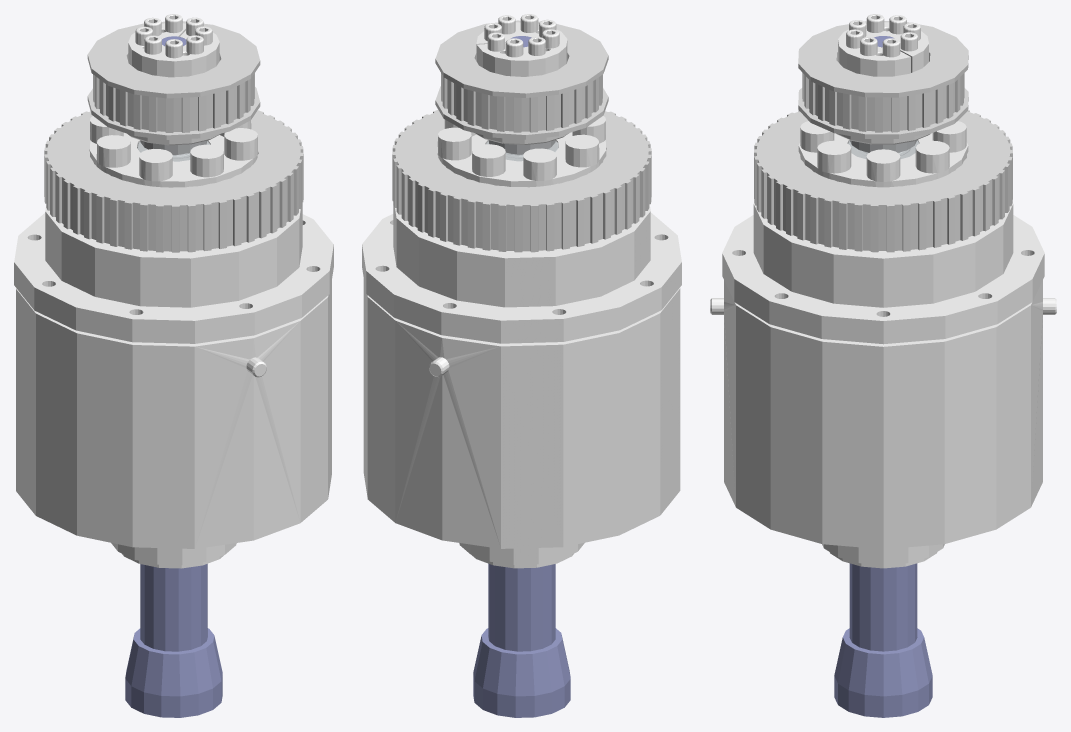
3 views of the same model, side by side, from view 1: azimuth 30°, elevation 25°; view 2: azimuth 150°, elevation 25°; view 3: azimuth 270°, elevation 25° (orthographic).
Visible parts, largest first — view 1: 4172022B_Contre_couvercle_de_cage, 10167082_Cage_a_roulements_d''agitateur, 4464033_Poulie_d''agitateur, 4464063_Poulie_entrainement_de_vis, 64653128_bage_d''assemblage_TLK_139_28-50, 4464152A_Bague_de_maintien, 4464042B_Arbre_commande_de_vis_DEMONTAGE_RAPIDE, 64653008_Bague_d''assemblage_ø8, 4464012C_Cage_a_roulements_de_vis_BLOCAGE_ECROU; view 2: 4172022B_Contre_couvercle_de_cage, 10167082_Cage_a_roulements_d''agitateur, 4464033_Poulie_d''agitateur, 4464063_Poulie_entrainement_de_vis, 64653128_bage_d''assemblage_TLK_139_28-50, 4464152A_Bague_de_maintien, 4464042B_Arbre_commande_de_vis_DEMONTAGE_RAPIDE, 64653008_Bague_d''assemblage_ø8, 4464012C_Cage_a_roulements_de_vis_BLOCAGE_ECROU; view 3: 4172022B_Contre_couvercle_de_cage, 10167082_Cage_a_roulements_d''agitateur, 4464033_Poulie_d''agitateur, 4464063_Poulie_entrainement_de_vis, 64653128_bage_d''assemblage_TLK_139_28-50, 4464152A_Bague_de_maintien, 4464042B_Arbre_commande_de_vis_DEMONTAGE_RAPIDE, 64653008_Bague_d''assemblage_ø8, 4464012C_Cage_a_roulements_de_vis_BLOCAGE_ECROU.
Part boxes in pixels (box(x1,y1,x2,y2)): 4172022B_Contre_couvercle_de_cage: box(16, 280, 331, 548); 10167082_Cage_a_roulements_d''agitateur: box(14, 202, 333, 343); 4464033_Poulie_d''agitateur: box(44, 110, 303, 252); 4464063_Poulie_entrainement_de_vis: box(87, 21, 260, 145); 64653128_bage_d''assemblage_TLK_139_28-50: box(90, 116, 257, 187); 4464152A_Bague_de_maintien: box(125, 628, 222, 717); 4464042B_Arbre_commande_de_vis_DEMONTAGE_RAPIDE: box(140, 36, 207, 651); 64653008_Bague_d''assemblage_ø8: box(128, 14, 219, 77); 4464012C_Cage_a_roulements_de_vis_BLOCAGE_ECROU: box(111, 137, 236, 568); 4172022B_Contre_couvercle_de_cage: box(363, 279, 680, 548); 10167082_Cage_a_roulements_d''agitateur: box(362, 204, 681, 343); 4464033_Poulie_d''agitateur: box(392, 110, 651, 252); 4464063_Poulie_entrainement_de_vis: box(435, 20, 608, 144); 64653128_bage_d''assemblage_TLK_139_28-50: box(437, 116, 606, 187); 4464152A_Bague_de_maintien: box(473, 628, 570, 717); 4464042B_Arbre_commande_de_vis_DEMONTAGE_RAPIDE: box(488, 36, 555, 651); 64653008_Bague_d''assemblage_ø8: box(476, 14, 567, 76); 4464012C_Cage_a_roulements_de_vis_BLOCAGE_ECROU: box(459, 136, 584, 568); 4172022B_Contre_couvercle_de_cage: box(724, 280, 1042, 549); 10167082_Cage_a_roulements_d''agitateur: box(722, 203, 1044, 344); 4464033_Poulie_d''agitateur: box(754, 110, 1012, 252); 4464063_Poulie_entrainement_de_vis: box(798, 21, 968, 144); 64653128_bage_d''assemblage_TLK_139_28-50: box(798, 121, 968, 187); 4464152A_Bague_de_maintien: box(834, 628, 932, 717); 4464042B_Arbre_commande_de_vis_DEMONTAGE_RAPIDE: box(849, 36, 917, 651); 64653008_Bague_d''assemblage_ø8: box(838, 14, 928, 76); 4464012C_Cage_a_roulements_de_vis_BLOCAGE_ECROU: box(822, 136, 944, 568).
Bounding box in the file's own units: 0.095 × 0.217 × 0.102.
